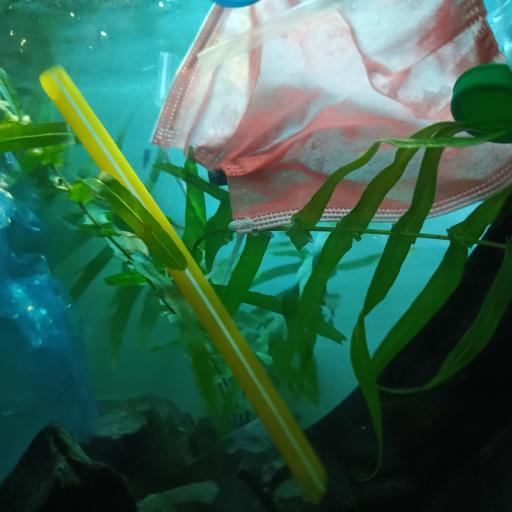bottle_cap: (448, 62, 512, 148)
mask: (151, 0, 511, 233), (261, 201, 512, 512)
plastic_bag: (0, 152, 109, 508)
plastic_straw: (39, 62, 329, 504)
